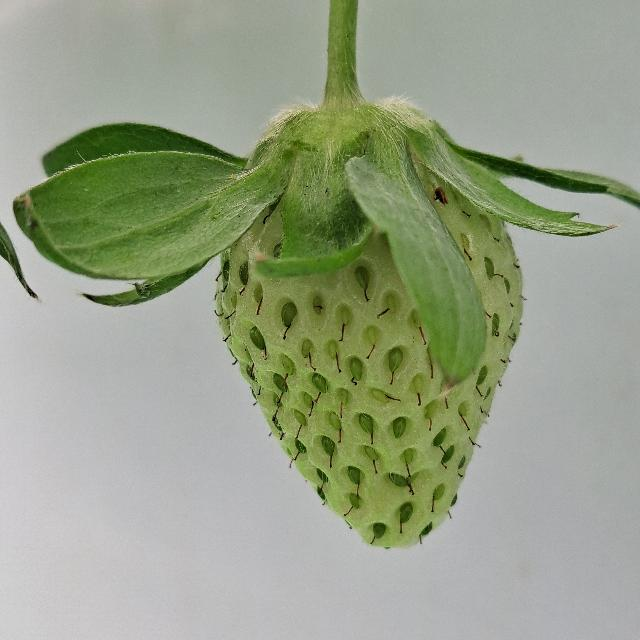Health_25: (215, 154, 523, 548)
